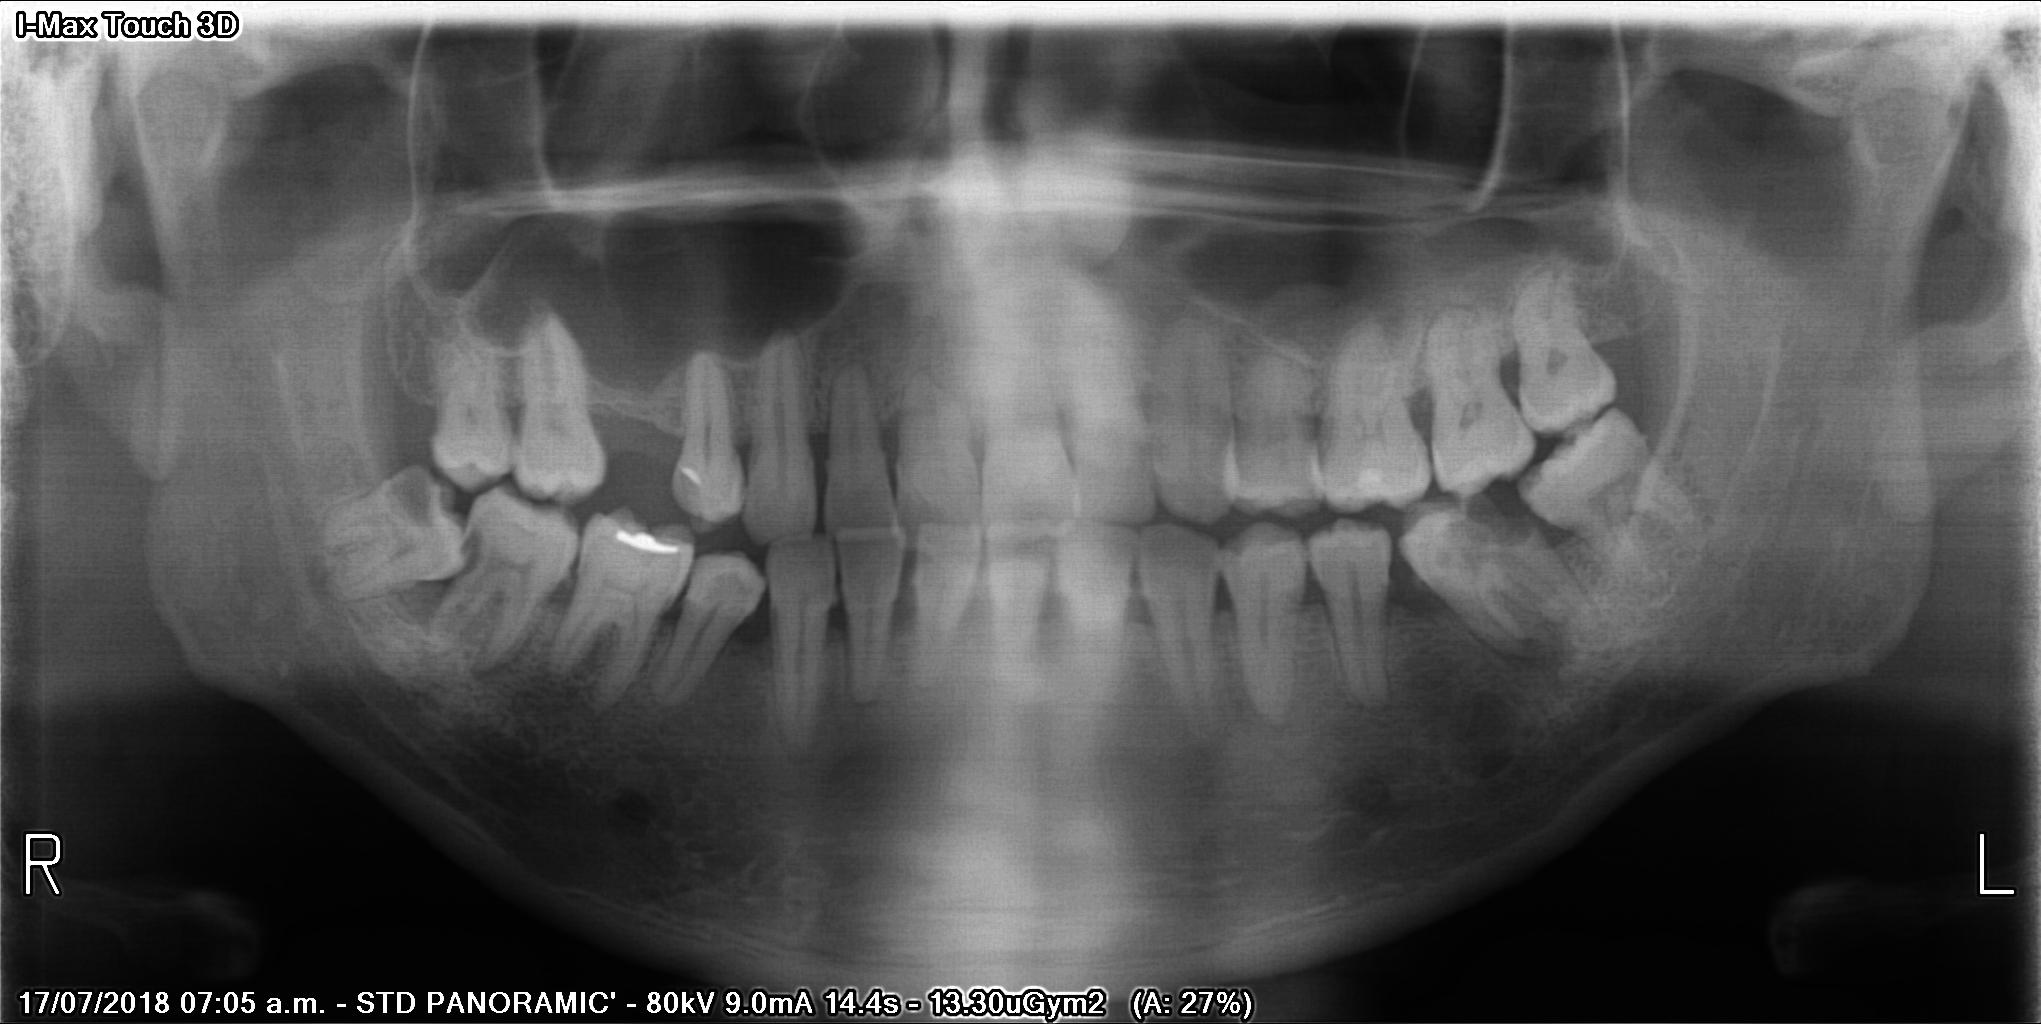Çürük: (610, 526, 686, 562)
Çürük Bölgesi: (1468, 491, 1534, 546), (383, 472, 440, 519), (1519, 460, 1559, 512), (457, 533, 486, 572)
